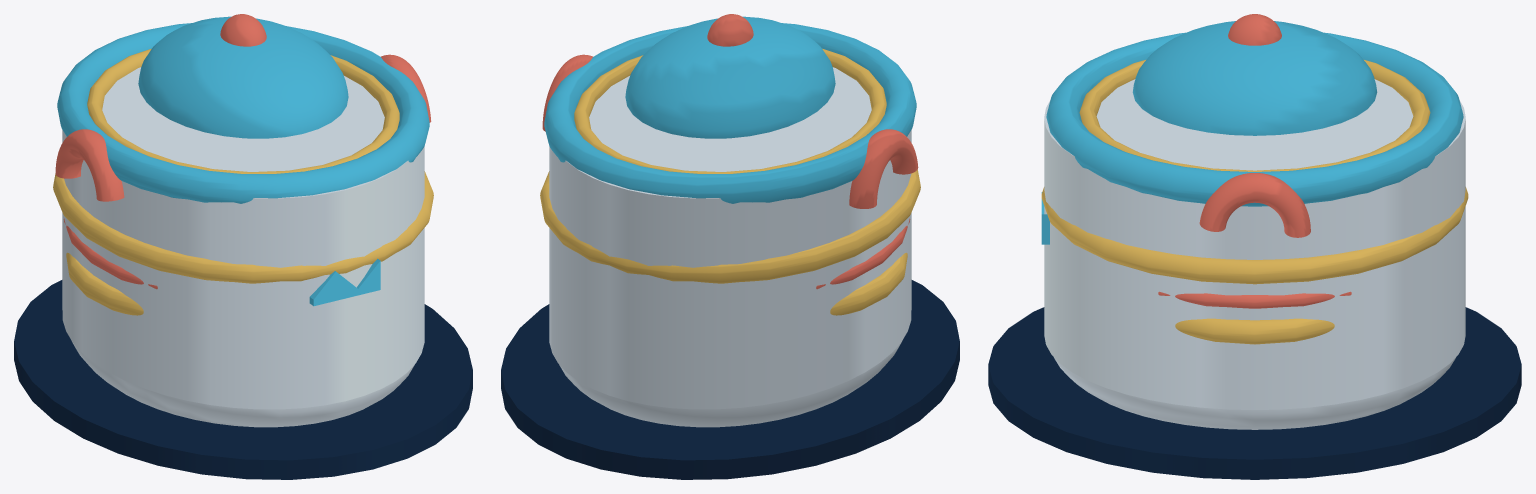
The model's file is 0876_钟表图鉴_哈里森第四代航海表.glb.
The picture shows the model from 3 angles, left to right: view 1: azimuth 30°, elevation 25°; view 2: azimuth 150°, elevation 25°; view 3: azimuth 270°, elevation 25°; orthographic projection. The views are drawn at different scales.
Visible parts, largest first — view 1: card_0876; view 2: card_0876; view 3: card_0876.
Boxes of the visible parts, x1=… form: card_0876: x1=14, y1=14, x2=472, y2=479; card_0876: x1=501, y1=14, x2=959, y2=479; card_0876: x1=988, y1=14, x2=1521, y2=479.
Size of the model in its own units: 1.06 by 1 by 1.26.
